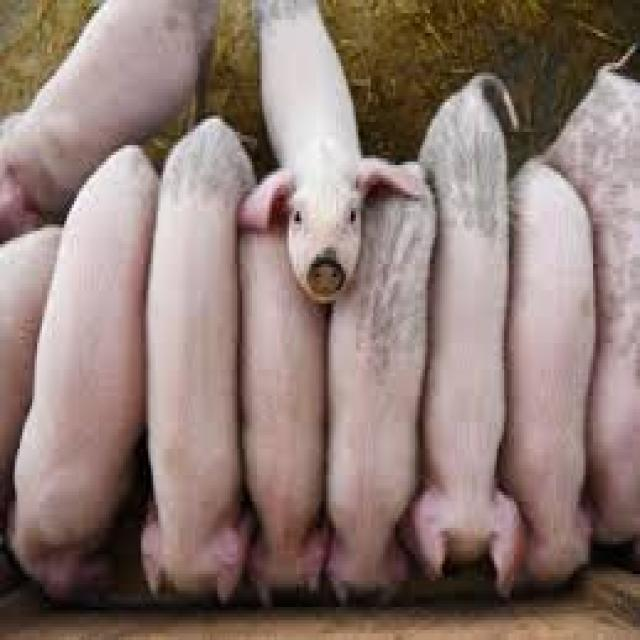pig: (255, 380, 608, 610), (0, 342, 205, 630), (222, 100, 403, 340)
